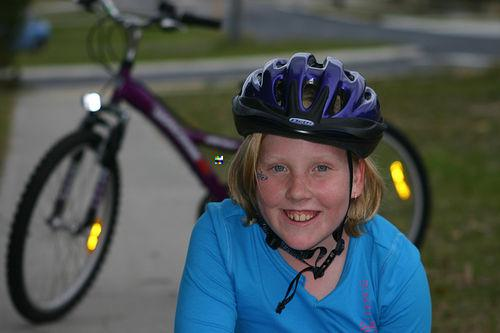car: (6, 1, 432, 319)
person: (172, 51, 431, 333)
